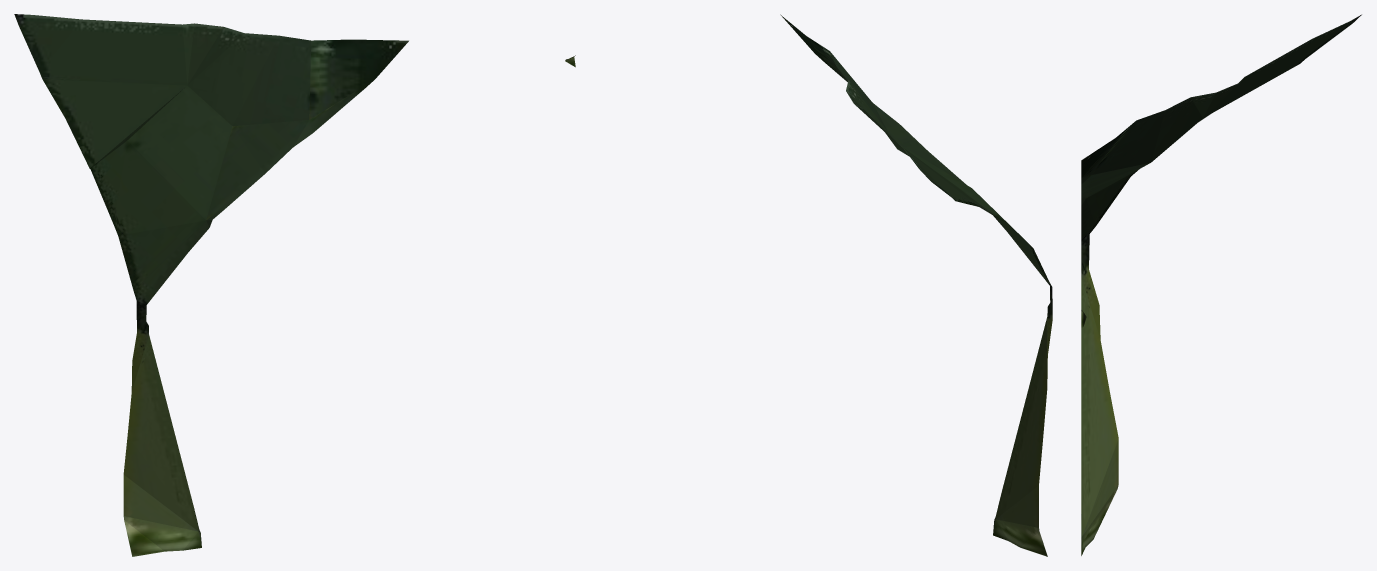
3 views of the same model, side by side, from view 1: azimuth 30°, elevation 25°; view 2: azimuth 150°, elevation 25°; view 3: azimuth 270°, elevation 25° (orthographic). The views are drawn at different scales.
Size of the model in its own units: 3.35 by 3.35 by 1.68.
1 material, 1 textured.
